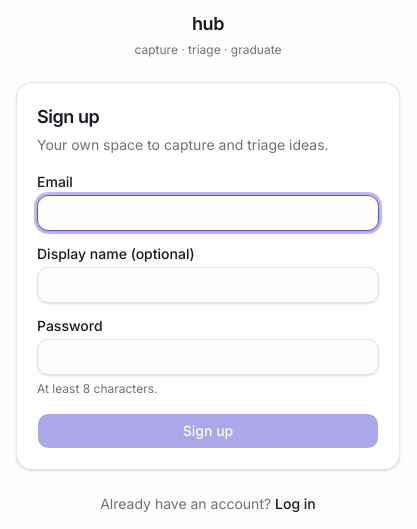
Test case: SignupPage › requires email and an 8+ character password before enabling submit
Expected: the button "Sign up" is disabled, left=37, top=413, right=379, bottom=449
Type "me@example.com" into the field labelled "Email" at coordinates (208, 213), box left=37, top=195, right=379, bottom=231
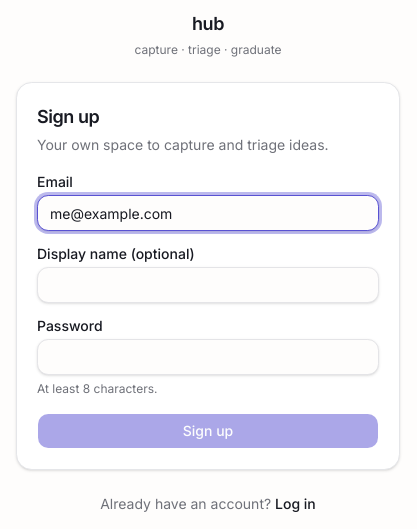
Expected: the button "Sign up" is disabled, left=37, top=413, right=379, bottom=449
Type "short" into the password field labelled "Password" at coordinates (208, 357), box left=37, top=339, right=379, bottom=375
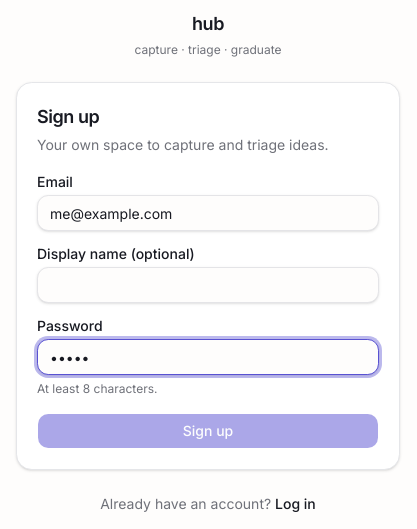
Expected: the button "Sign up" is disabled, left=37, top=413, right=379, bottom=449
Type "123" into the password field labelled "Password" at coordinates (208, 357), box left=37, top=339, right=379, bottom=375
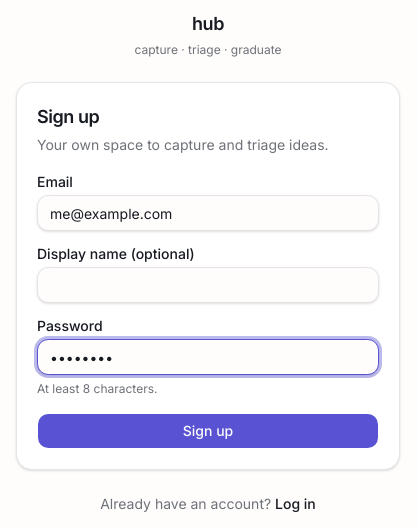
Expected: the button "Sign up" is enabled, left=37, top=413, right=379, bottom=449
